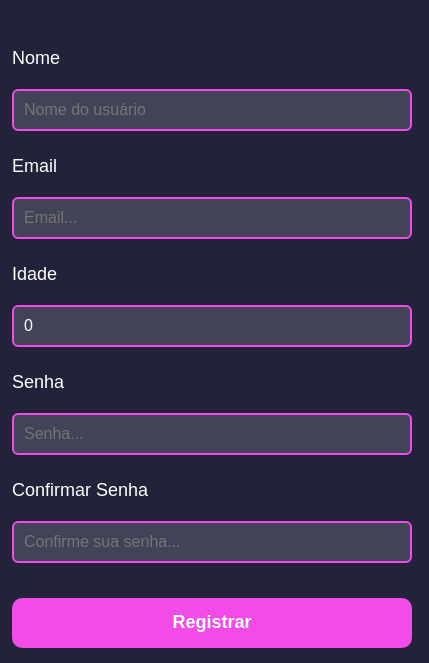
Test case: Componente RegisterForm › mostrar mensagem de erro para senha inválido
Type "pass" into the password field with test id "password-input" at (212, 434), box 12,413 -> 412,455
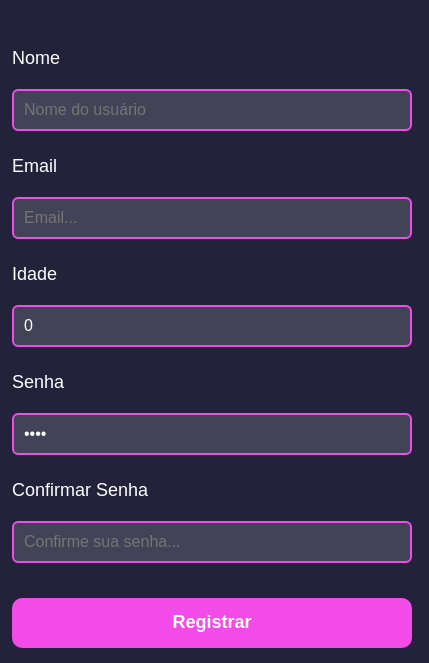
Click the button with test id "submit-button" at (212, 623), box 12,598 -> 412,648
(page scrolled)
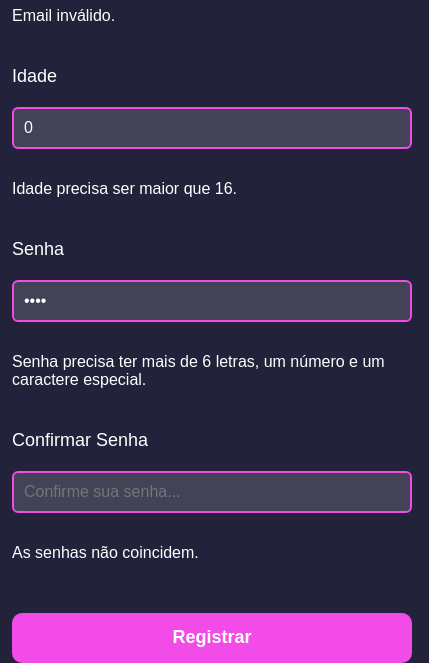
Expected: the text with test id "error-password" reads "Senha precisa ter mais de 6 letras, um número e um caractere especial.", 12,353 -> 385,388
